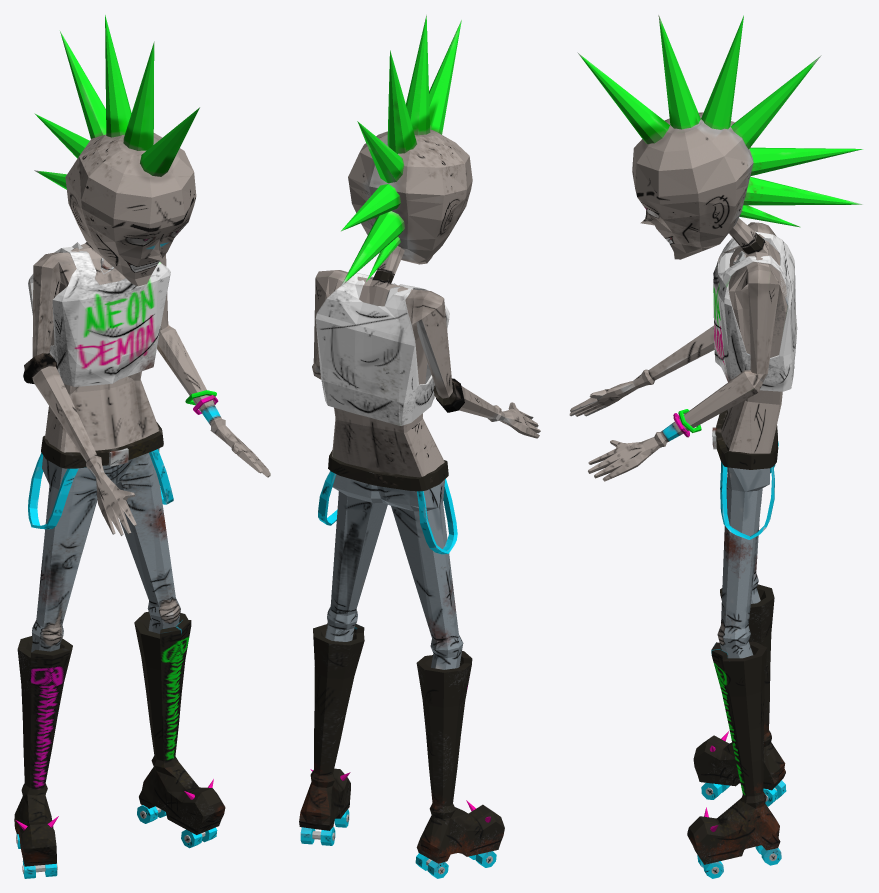
Rendered from punkAnimation_000031.obj.
The picture shows the model from 3 angles, left to right: view 1: azimuth 30°, elevation 25°; view 2: azimuth 150°, elevation 25°; view 3: azimuth 270°, elevation 25°; orthographic projection. The views are drawn at different scales.
Visible parts, largest first — view 1: Cube.004_Cube.003; view 2: Cube.004_Cube.003; view 3: Cube.004_Cube.003.
Part boxes in pixels (box(x1,y1,x2,y2)): Cube.004_Cube.003: box(14, 15, 270, 878); Cube.004_Cube.003: box(299, 15, 540, 878); Cube.004_Cube.003: box(569, 15, 862, 878).
Size of the model in its own units: 1.85 by 7.54 by 2.45.
